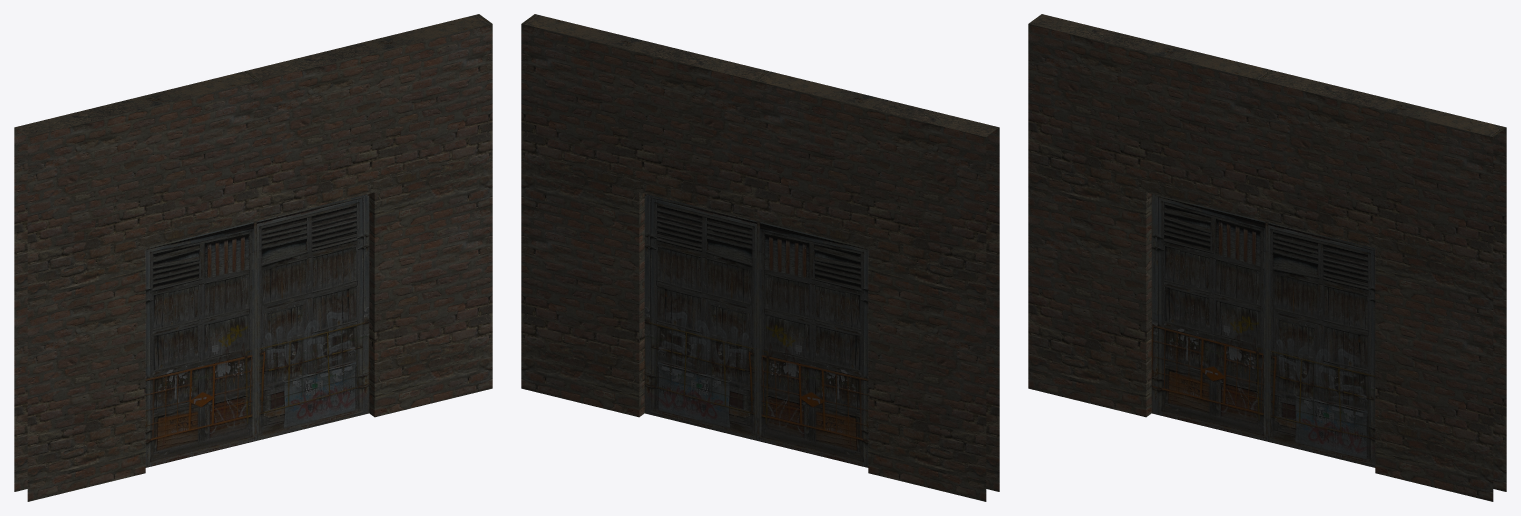
The model's file is garage_door_frame_hr_1.obj.
The picture shows the model from 3 angles, left to right: view 1: azimuth 30°, elevation 25°; view 2: azimuth 150°, elevation 25°; view 3: azimuth 330°, elevation 25°; orthographic projection.
Parts seen in each view (by area): view 1: garage_door_frame_hr_1, garage_door_hr_2_piece_2, garage_door_hr_2_piece_1; view 2: garage_door_frame_hr_1, garage_door_hr_2_piece_2, garage_door_hr_2_piece_1; view 3: garage_door_frame_hr_1, garage_door_hr_2_piece_1, garage_door_hr_2_piece_2.
Part boxes in pixels (x1,y1,x2,y2): garage_door_frame_hr_1: [14, 14, 492, 501]; garage_door_hr_2_piece_2: [255, 194, 369, 441]; garage_door_hr_2_piece_1: [145, 221, 254, 467]; garage_door_frame_hr_1: [521, 14, 999, 501]; garage_door_hr_2_piece_2: [644, 194, 758, 441]; garage_door_hr_2_piece_1: [759, 221, 868, 467]; garage_door_frame_hr_1: [1028, 14, 1506, 501]; garage_door_hr_2_piece_1: [1151, 194, 1265, 441]; garage_door_hr_2_piece_2: [1266, 221, 1375, 467].
Size of the model in its own units: 8 by 6 by 0.4.
